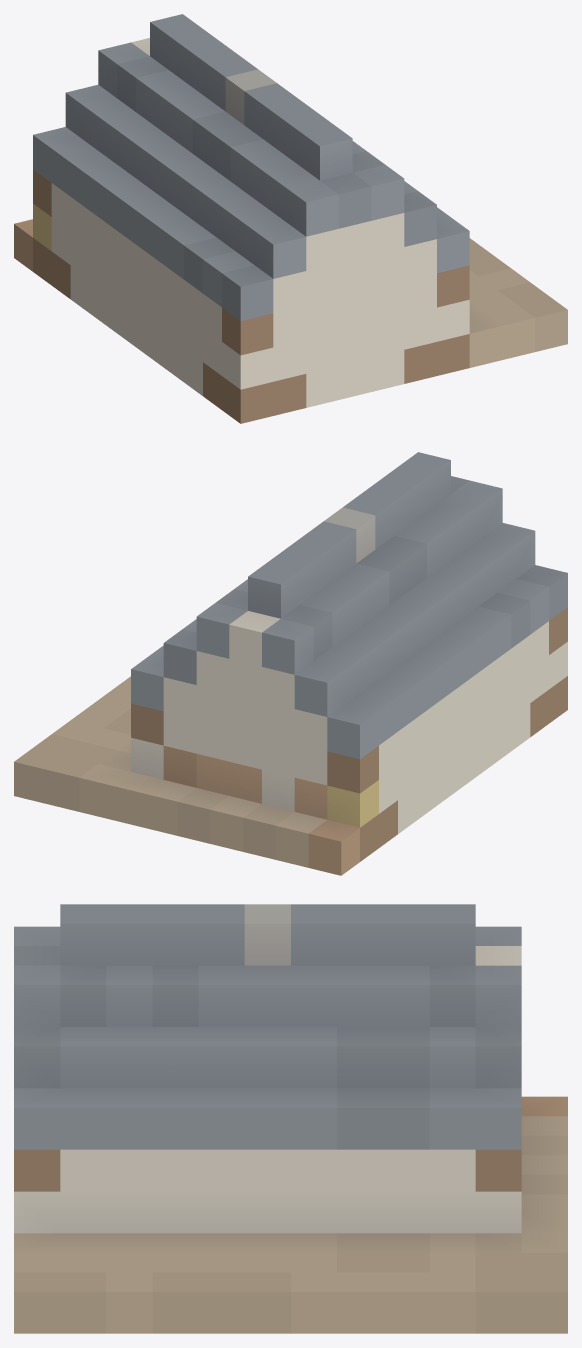
The model's file is distillery.lite.glb.
3 views of the same model, one above another, from view 1: azimuth 30°, elevation 25°; view 2: azimuth 150°, elevation 25°; view 3: azimuth 270°, elevation 25° (orthographic). The views are drawn at different scales.
Visible parts, largest first — view 1: distillery; view 2: distillery; view 3: distillery.
Boxes of the visible parts, x1,y1,x2,y2 form: distillery: (14, 14, 567, 423); distillery: (14, 452, 567, 875); distillery: (14, 904, 567, 1333).
Bounding box in the file's own units: 5 × 3.5 × 6.
